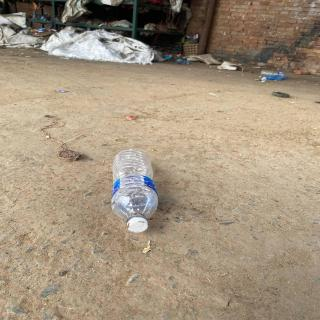Plastic-bottle: (109, 147, 162, 235)
